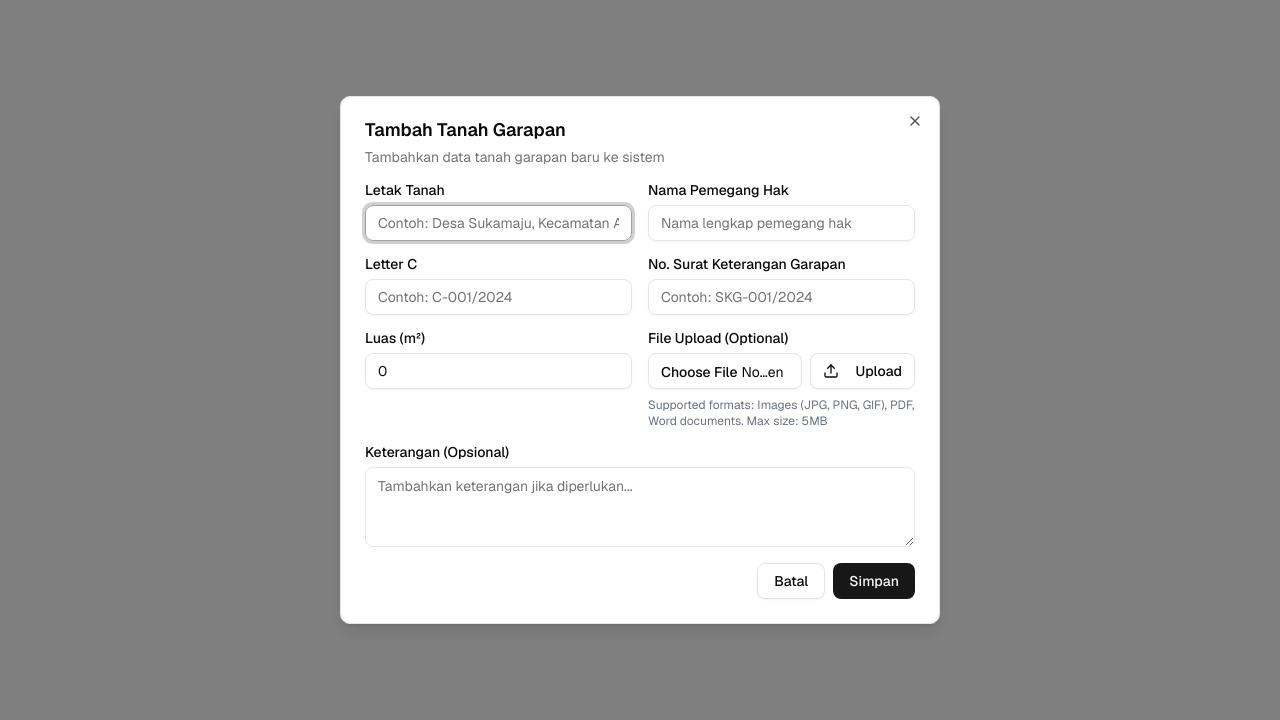
TanahGarapanForm › validates required fields
This screenshot has width=1280, height=720.
Click the button "Simpan". click: [874, 581]
box: [833,563,915,599]
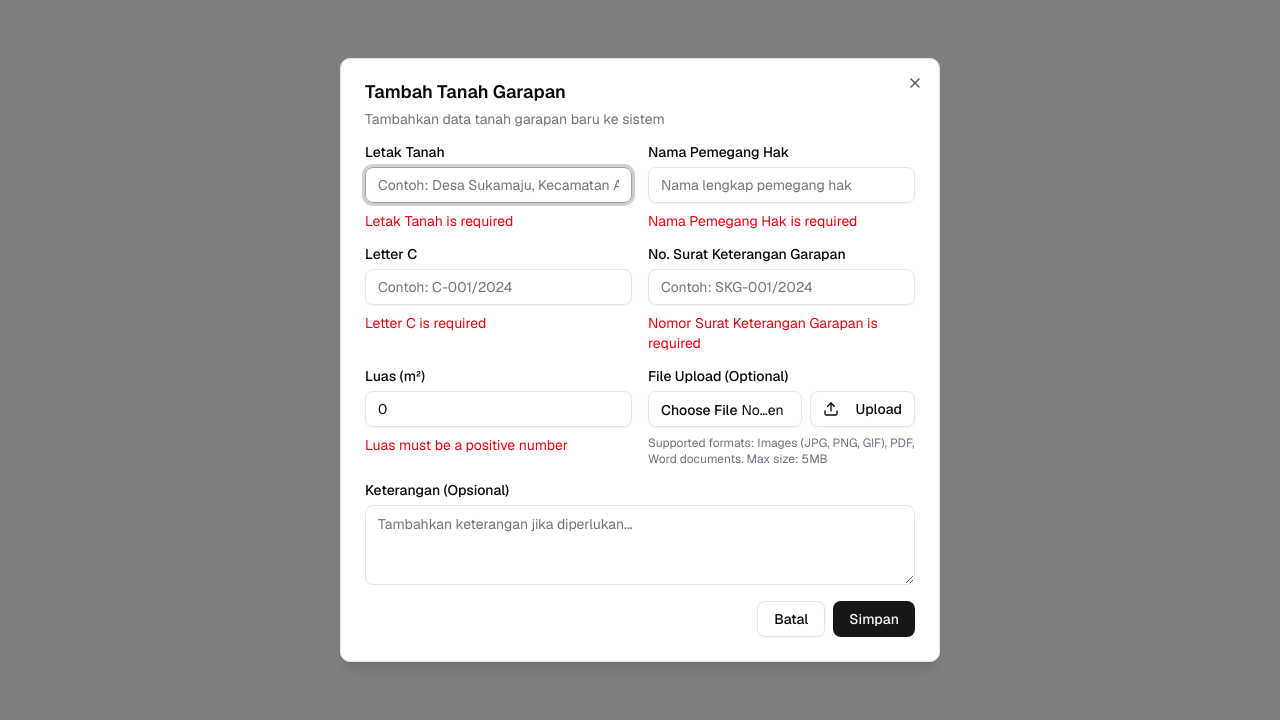
Now the text "Letak Tanah is required" is shown, box [365,212,513,230]
Now the text "Nama Pemegang Hak is required" is shown, box [648,212,858,230]
Now the text "Letter C is required" is shown, box [365,314,486,332]
